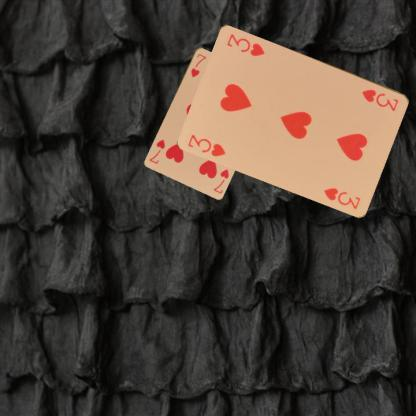3h: (186, 131, 228, 158), (360, 86, 400, 113)
7h: (211, 166, 230, 195), (188, 51, 207, 78)
